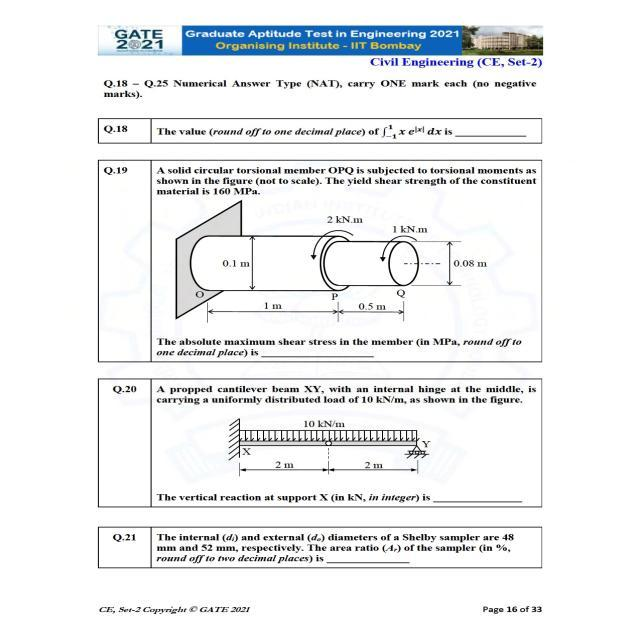Question_Answer_Block: (100, 161, 543, 361), (100, 377, 540, 507), (101, 527, 538, 568), (98, 118, 541, 144)
Question_Block: (100, 159, 540, 360), (100, 380, 538, 507), (100, 530, 540, 566), (97, 118, 540, 143)
Question_Paper_Area: (96, 80, 542, 570)
